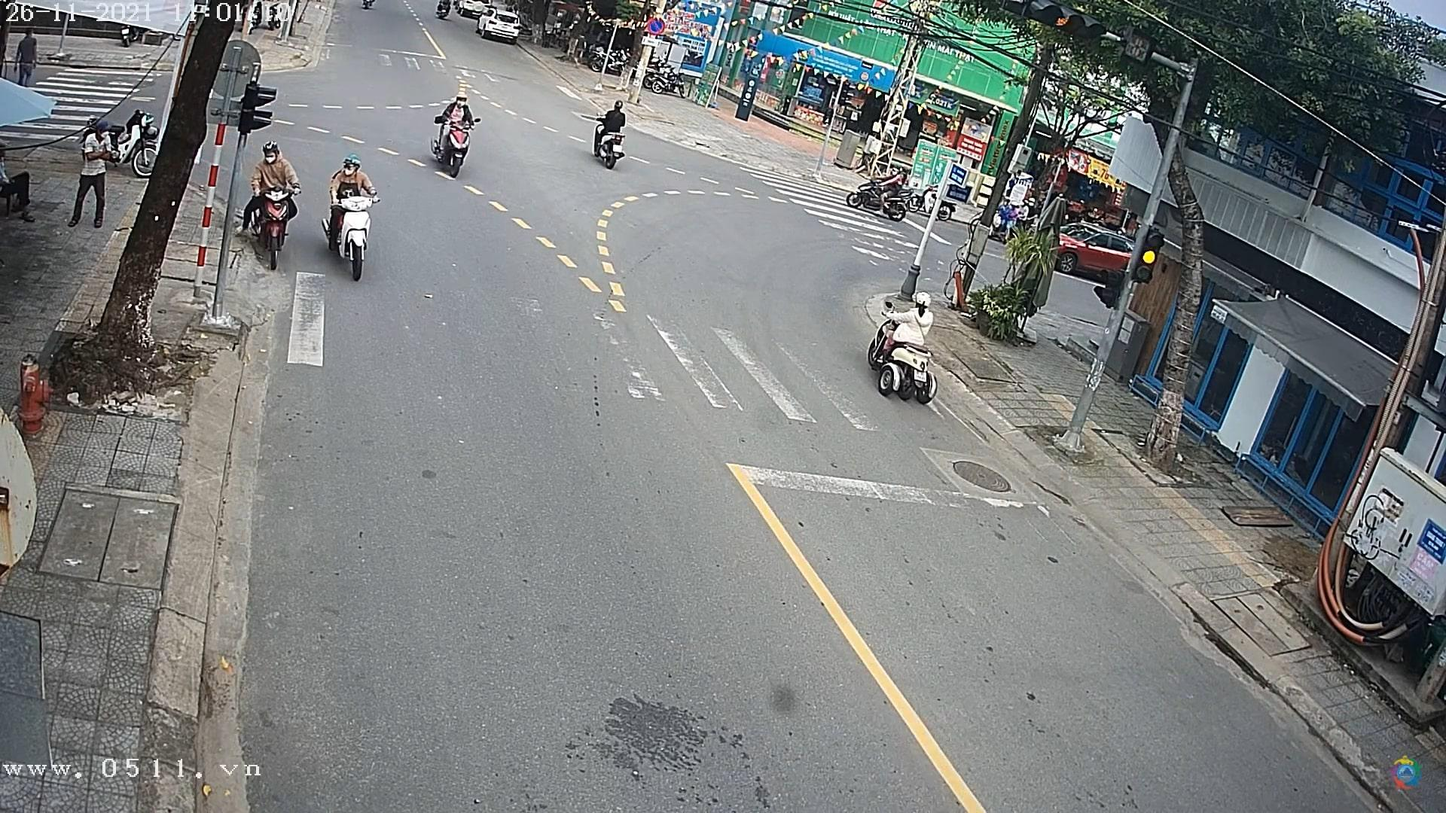car: (1056, 224, 1156, 294)
motorbike: (871, 315, 942, 398), (328, 193, 378, 285), (253, 173, 298, 266), (439, 115, 472, 178), (590, 129, 626, 173)
